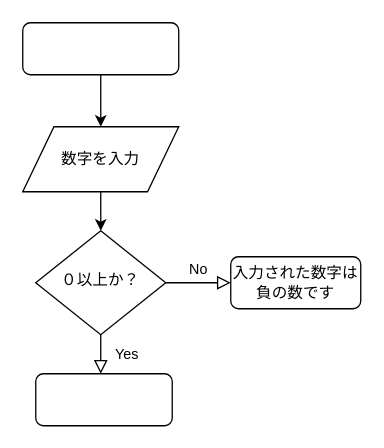
The diagram is 384 pixels wide and 448 high, and some of its shapes have lost their labels. The shapes that lost their labels are listed below. From the top down, each one's box as (x1, y1, x2, y2) in pixels, then its label:
(21, 21, 179, 75): Start
(34, 372, 172, 426): 入力された数字は正の数です
